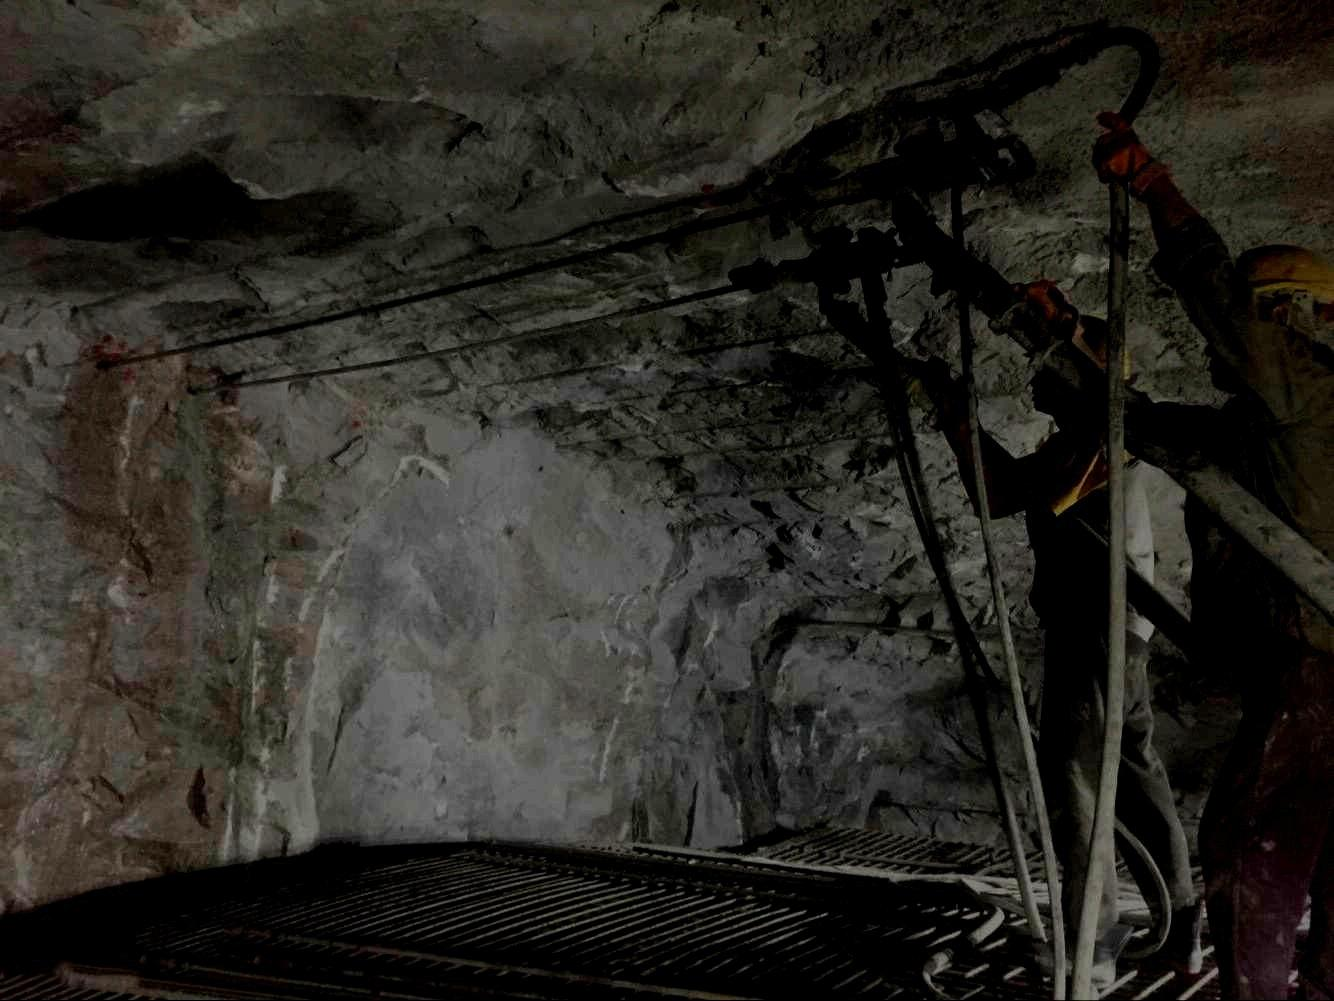helmet: (1200, 243, 1334, 396), (1030, 313, 1130, 413)
